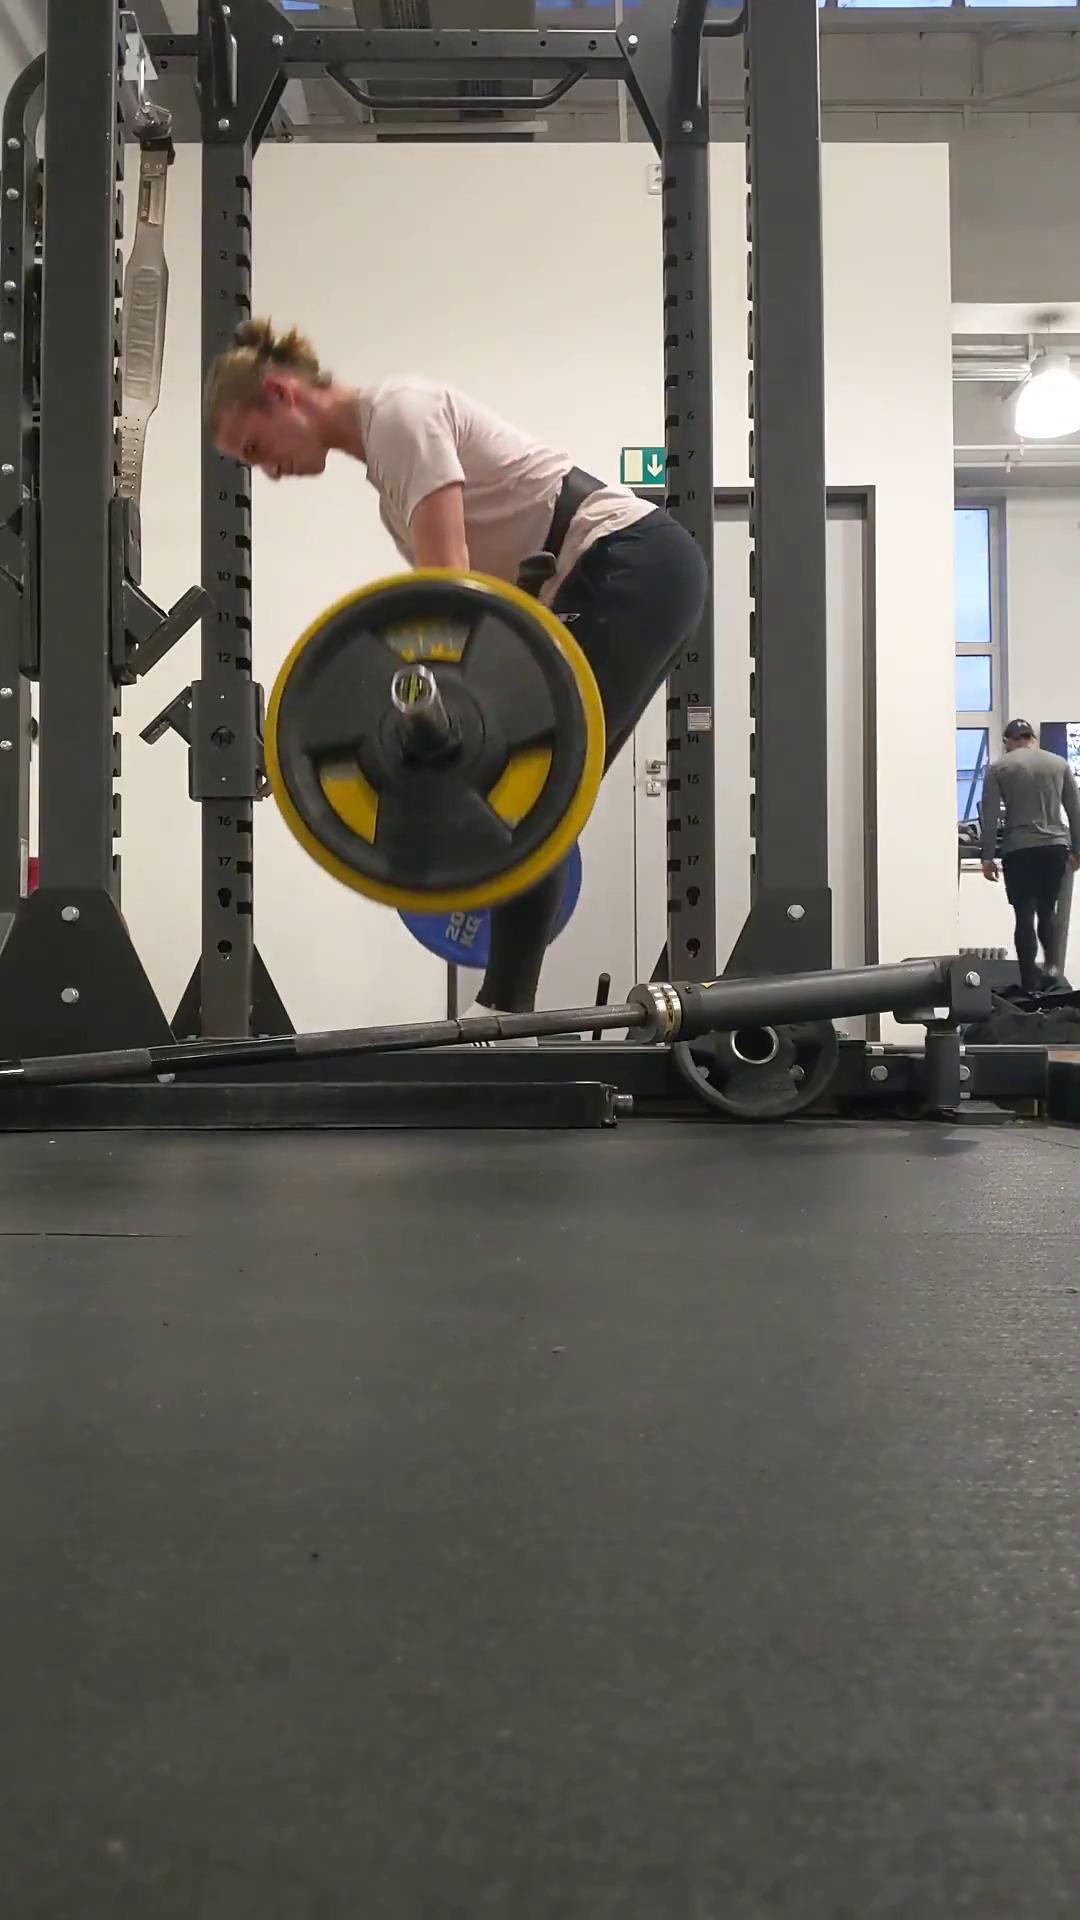barbell: (265, 568, 603, 913)
